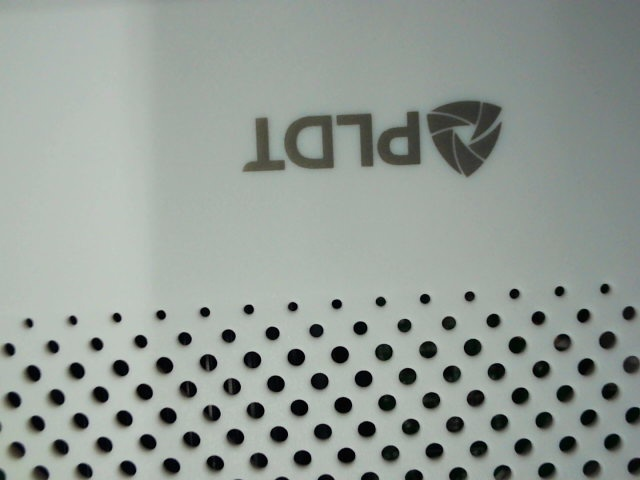BH_PLDT: (224, 88, 526, 186)
